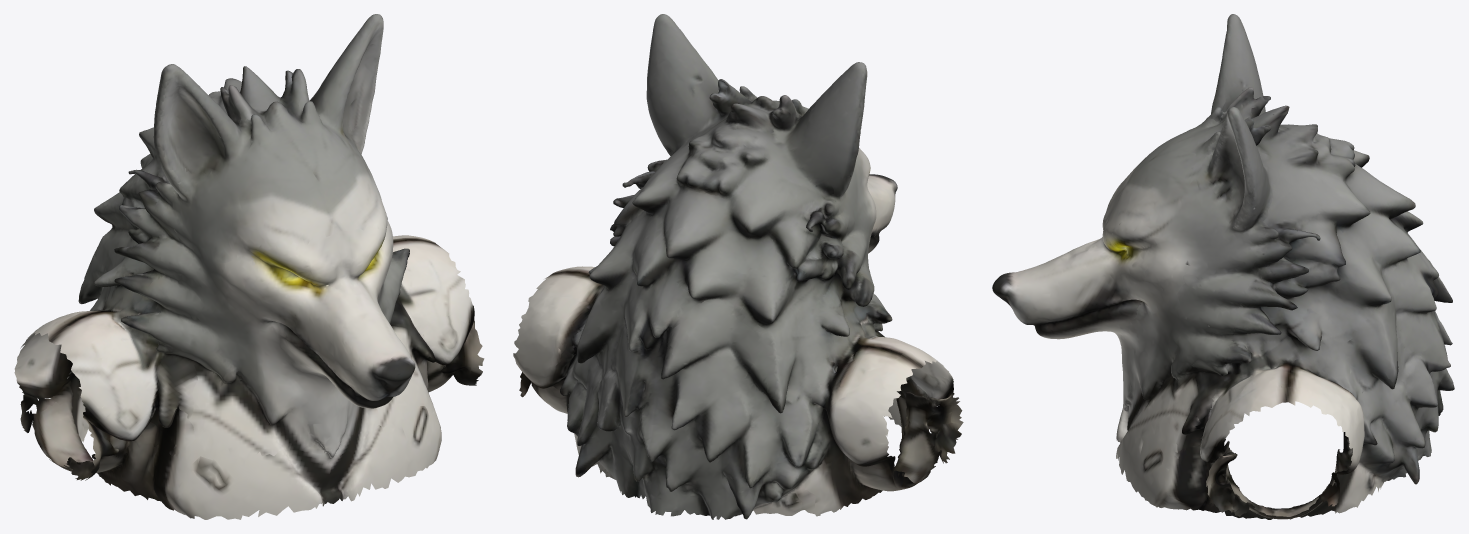
The model's file is cyber_lupine_head.glb.
3 views of the same model, side by side, from view 1: azimuth 30°, elevation 25°; view 2: azimuth 150°, elevation 25°; view 3: azimuth 270°, elevation 25° (orthographic). The views are drawn at different scales.
Parts seen in each view (by area): view 1: BustSection_4, BustSection_1, BustSection_2, BustSection_0, BustSection_6, BustSection_3, BustSection_5; view 2: BustSection_0, BustSection_5, BustSection_1, BustSection_3, BustSection_6, BustSection_2, BustSection_4; view 3: BustSection_2, BustSection_1, BustSection_3, BustSection_4, BustSection_0, BustSection_5, BustSection_6.
Boxes of the visible parts, x1,y1,x2,y2 form: BustSection_4: (82,14,482,519); BustSection_1: (14,70,484,488); BustSection_2: (32,14,474,516); BustSection_0: (31,85,474,519); BustSection_6: (35,38,447,483); BustSection_3: (20,78,235,432); BustSection_5: (22,154,408,437); BustSection_0: (536,96,954,519); BustSection_5: (513,169,917,519); BustSection_1: (513,71,951,513); BustSection_3: (516,134,903,516); BustSection_6: (524,32,945,516); BustSection_2: (571,14,963,511); BustSection_4: (538,14,961,492); BustSection_2: (1102,87,1420,519); BustSection_1: (992,125,1437,519); BustSection_3: (1233,124,1447,509); BustSection_4: (993,14,1394,519); BustSection_0: (1070,85,1454,457); BustSection_5: (1293,142,1443,510); BustSection_6: (1228,41,1452,519).
Size of the model in its own units: 0.44 by 0.451 by 0.4822.
1 material, 1 textured.
